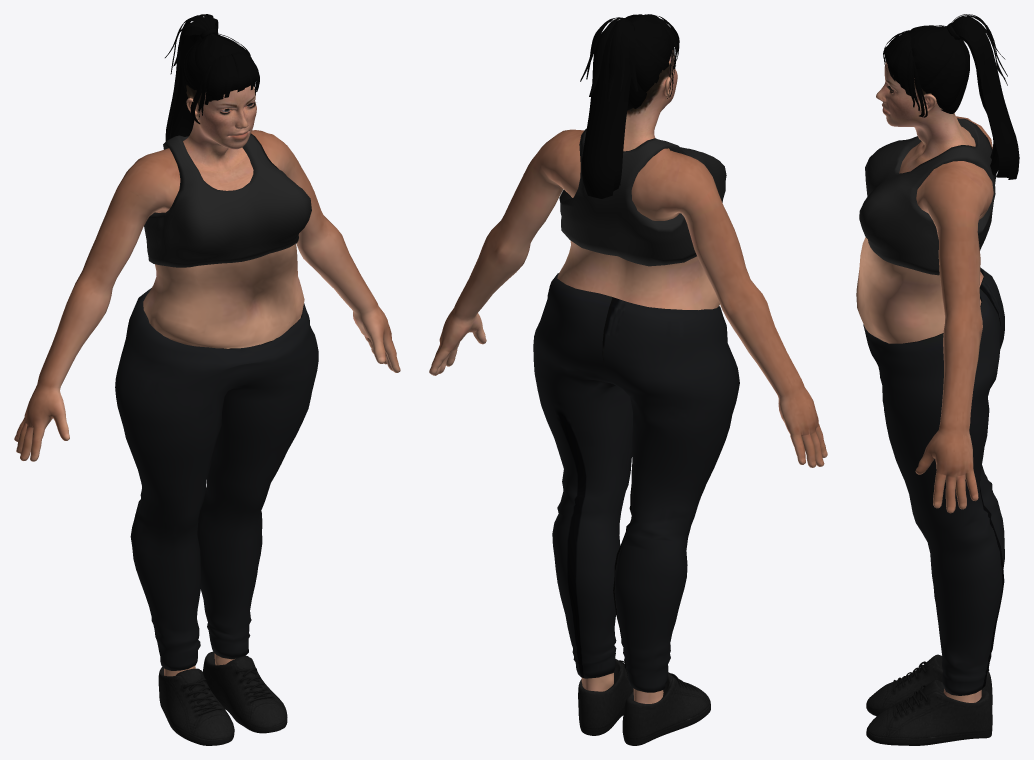
The model's file is C5_JPG_Compressed_V2.glb.
The picture shows the model from 3 angles, left to right: view 1: azimuth 30°, elevation 25°; view 2: azimuth 150°, elevation 25°; view 3: azimuth 270°, elevation 25°; orthographic projection. The views are drawn at different scales.
Visible parts, largest first — view 1: C1.007, C1.009, Arms.004, Shoes.004; view 2: C1.007, C1.009, Arms.004, Shoes.004, C1.010; view 3: C1.009, C1.007, Arms.004, Shoes.004.
Part boxes in pixels (x1=…): C1.007: x1=115, y1=288, x2=318, y2=670; C1.009: x1=143, y1=14, x2=311, y2=348; Arms.004: x1=14, y1=130, x2=400, y2=461; Shoes.004: x1=158, y1=651, x2=287, y2=745; C1.007: x1=533, y1=273, x2=739, y2=692; C1.009: x1=557, y1=14, x2=726, y2=309; Arms.004: x1=429, y1=129, x2=827, y2=467; Shoes.004: x1=578, y1=659, x2=710, y2=745; C1.010: x1=581, y1=673, x2=663, y2=703; C1.009: x1=856, y1=14, x2=1019, y2=343; C1.007: x1=863, y1=267, x2=1004, y2=695; Arms.004: x1=915, y1=116, x2=993, y2=513; Shoes.004: x1=866, y1=654, x2=992, y2=745.
Size of the model in its own units: 4.19 by 7.34 by 1.53.
8 materials, 5 textured.
